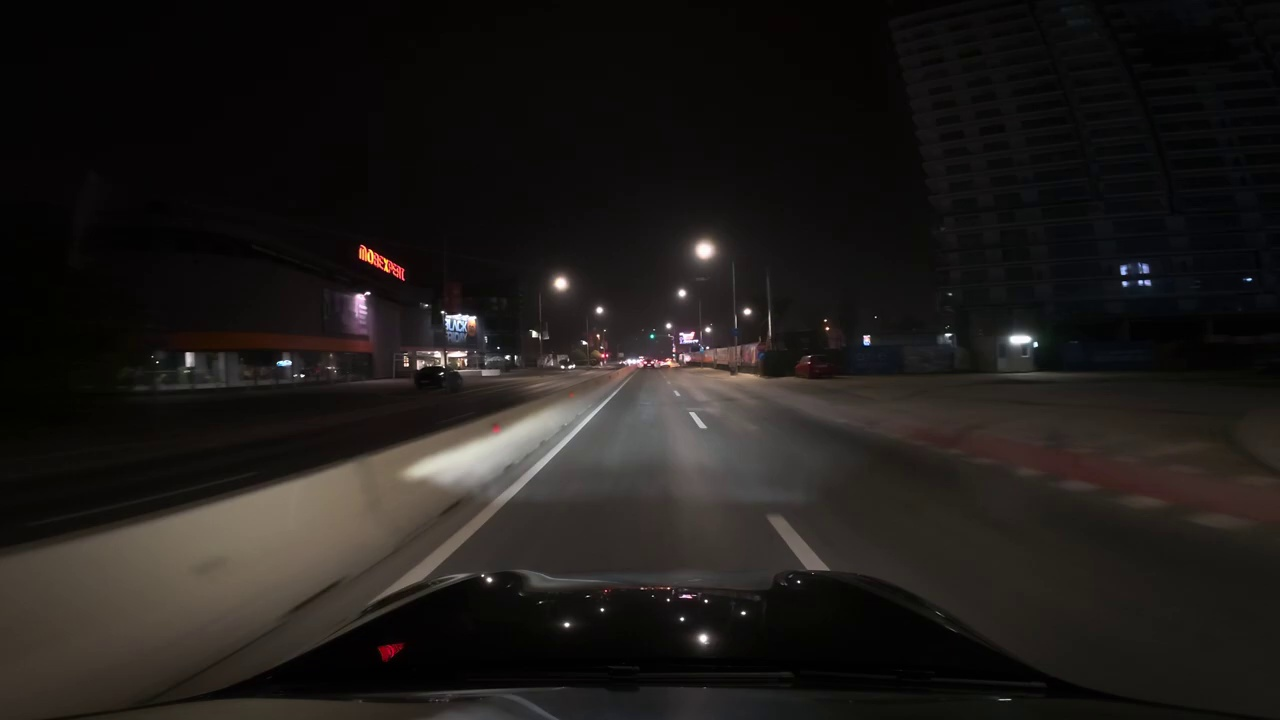acesa: (691, 237, 718, 264), (548, 272, 572, 296)
